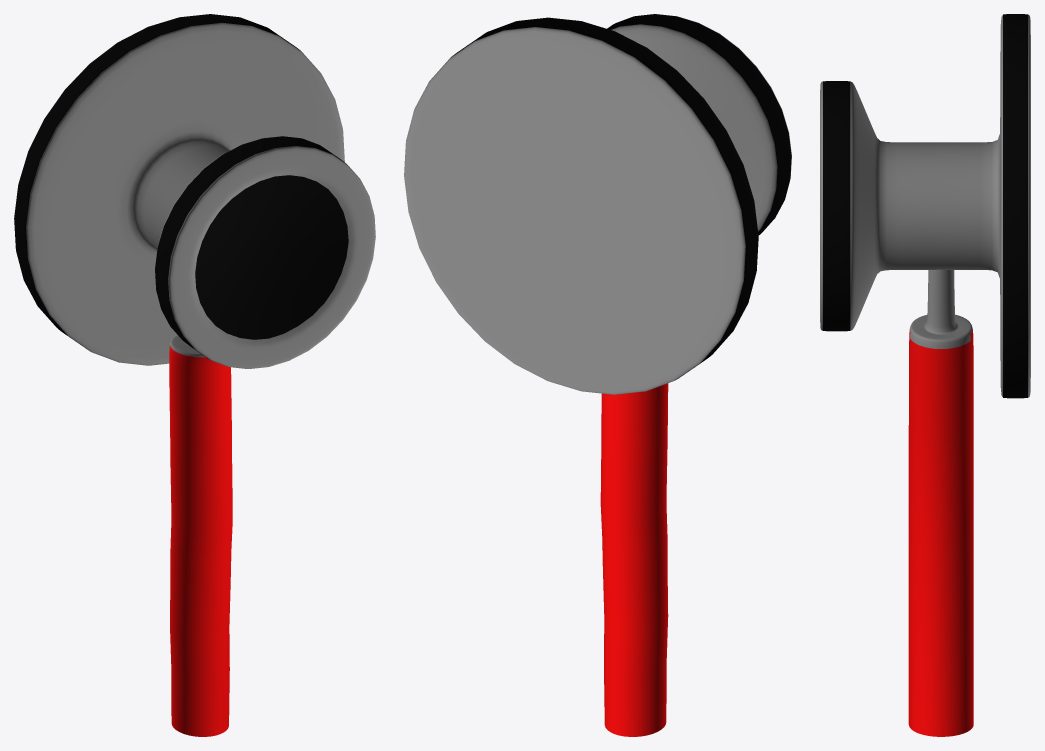
File: stethoscopeShort.fbx
3 views of the same model, side by side, from view 1: azimuth 30°, elevation 25°; view 2: azimuth 150°, elevation 25°; view 3: azimuth 270°, elevation 25° (orthographic). The views are drawn at different scales.
Parts seen in each view (by area): view 1: _stethoscope_v1:_stethoscope; view 2: _stethoscope_v1:_stethoscope; view 3: _stethoscope_v1:_stethoscope.
Boxes of the visible parts, x1,y1,x2,y2 form: _stethoscope_v1:_stethoscope: (14,14,375,736); _stethoscope_v1:_stethoscope: (404,14,791,736); _stethoscope_v1:_stethoscope: (820,14,1030,736).
Bounding box in the file's own units: 5.94 × 11.94 × 3.26.
